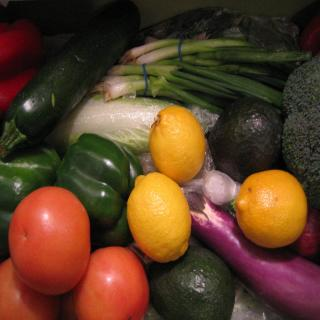tomato: (8, 186, 92, 294), (72, 245, 152, 319), (0, 256, 59, 319)
